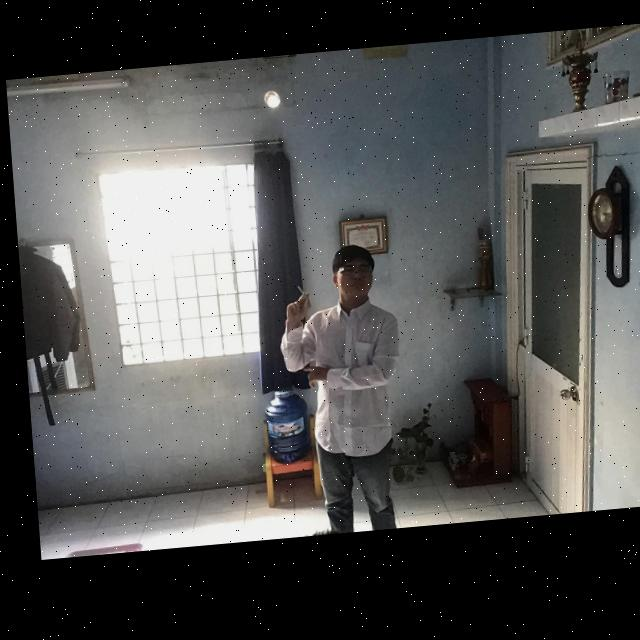cigarette: (291, 290, 304, 305)
